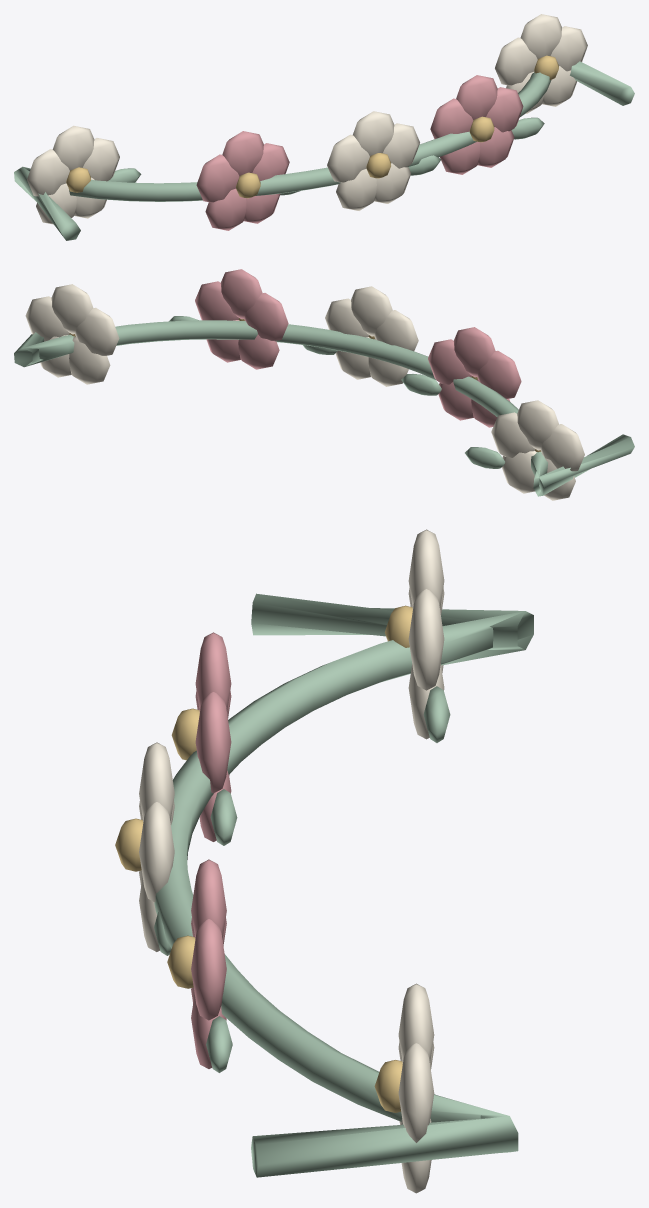
File: flower_crown.glb
3 renders of one model, top to bottom at view 1: azimuth 30°, elevation 25°; view 2: azimuth 150°, elevation 25°; view 3: azimuth 270°, elevation 25°, orthographic. The views are drawn at different scales.
Visible parts, largest first — view 1: Sage flower stem, Petal 4 1, Petal 1 1, Petal 2 1, Petal 0 1, Petal 0 0, Petal 3 0, Petal 1 0, Petal 2 0, Petal 4 0, Petal 1 2, Petal 2 2 (+21 smaller); view 2: Sage flower stem, Petal 4 1, Petal 3 1, Petal 4 0, Petal 0 0, Petal 2 0, Petal 0 1, Petal 3 0, Petal 1 0, Petal 1 1, Petal 4 2, Petal 0 4 (+16 smaller); view 3: Sage flower stem, Petal 0 4, Petal 3 4, Petal 4 4, Petal 1 4, Petal 2 4, Petal 1 0, Petal 0 0, Petal 4 0, Petal 2 0, Petal 3 0, Gold flower heart 2 (+8 smaller).
Part boxes in pixels (x1,y1,x2,y2): Sage flower stem: (14,61,634,240); Petal 4 1: (495,37,537,85); Petal 1 1: (196,154,239,202); Petal 2 1: (327,134,369,182); Petal 0 1: (27,149,69,196); Petal 0 0: (52,125,94,170); Petal 3 0: (456,75,497,119); Petal 1 0: (222,131,263,175); Petal 2 0: (353,111,394,155); Petal 4 0: (520,14,561,58); Petal 1 2: (205,188,246,230); Petal 2 2: (336,169,376,210); Sage flower stem: (14,320,634,496); Petal 4 1: (75,307,119,355); Petal 3 1: (244,293,288,340); Petal 4 0: (51,284,93,334); Petal 0 0: (517,400,558,450); Petal 2 0: (351,286,392,336); Petal 0 1: (540,424,584,471); Petal 3 0: (220,269,262,319); Petal 1 0: (453,327,495,377); Petal 1 1: (477,350,521,398); Petal 4 2: (69,336,110,384); Petal 0 4: (491,412,535,457); Sage flower stem: (154,593,533,1177); Petal 0 4: (408,589,444,690); Petal 3 4: (191,919,226,1020); Petal 4 4: (398,1043,434,1142); Petal 1 4: (195,692,231,793); Petal 2 4: (139,802,174,902); Petal 1 0: (195,632,231,712); Petal 0 0: (408,529,444,609); Petal 4 0: (398,983,434,1063); Petal 2 0: (139,742,174,822); Petal 3 0: (191,859,226,939); Gold flower heart 2: (115,818,143,871).
Size of the model in its own units: 0.8876 by 0.1533 by 0.2806.
